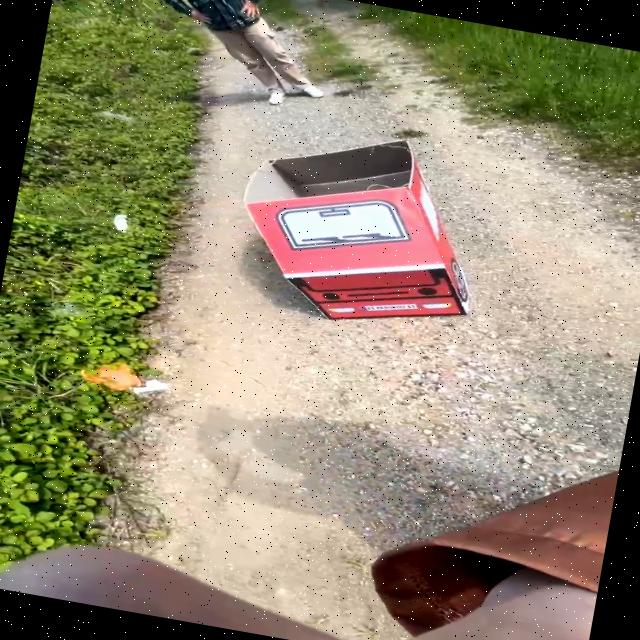red_car: (152, 84, 537, 354)
